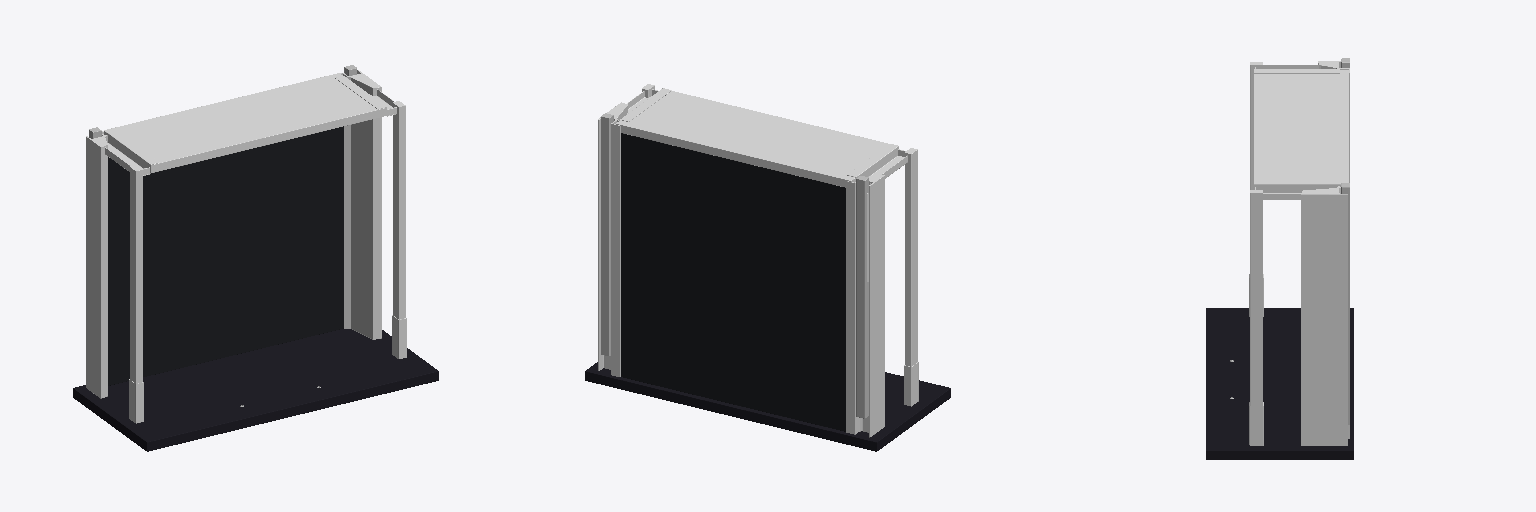
3 renders of one model, left to right at view 1: azimuth 30°, elevation 25°; view 2: azimuth 150°, elevation 25°; view 3: azimuth 270°, elevation 25°, orthographic.
Parts seen in each view (by area): view 1: SM_Kitchen_01_Drawer_01; view 2: SM_Kitchen_01_Drawer_01; view 3: SM_Kitchen_01_Drawer_01.
Boxes of the visible parts, x1,y1,x2,y2 form: SM_Kitchen_01_Drawer_01: [73, 65, 438, 451]; SM_Kitchen_01_Drawer_01: [585, 84, 950, 451]; SM_Kitchen_01_Drawer_01: [1206, 58, 1353, 459].
Bounding box in the file's own units: 0.5969 × 0.5199 × 0.263.
4 materials, 3 textured.